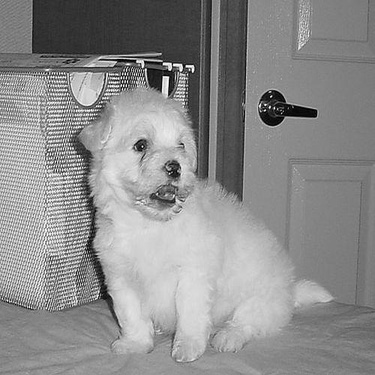dog: (70, 83, 340, 362)
